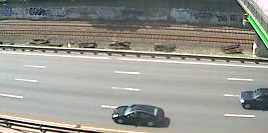car: (111, 102, 167, 129), (239, 88, 268, 112)
